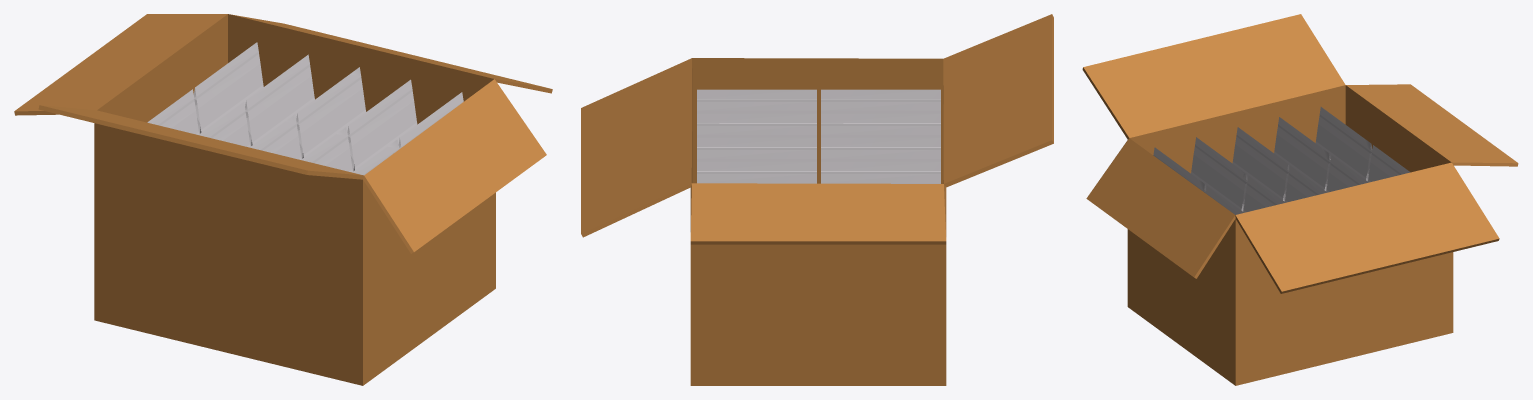
Rendered from dus_packaging_1.glb.
The picture shows the model from 3 angles, left to right: view 1: azimuth 30°, elevation 25°; view 2: azimuth 150°, elevation 25°; view 3: azimuth 270°, elevation 25°; orthographic projection. The views are drawn at different scales.
Parts seen in each view (by area): view 1: Cube.001; view 2: Cube.001; view 3: Cube.001.
Part boxes in pixels (bbox=[...]): Cube.001: bbox=[14, 14, 552, 385]; Cube.001: bbox=[581, 14, 1053, 385]; Cube.001: bbox=[1082, 14, 1518, 385].
Bounding box in the file's own units: 1.92 × 0.9342 × 1.78.
